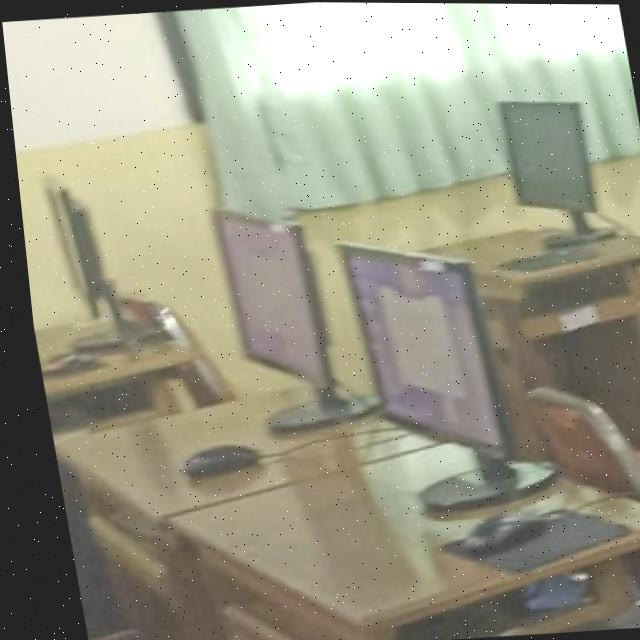offscreen: (497, 102, 587, 209)
onscreen: (337, 243, 499, 455), (211, 211, 312, 378)
